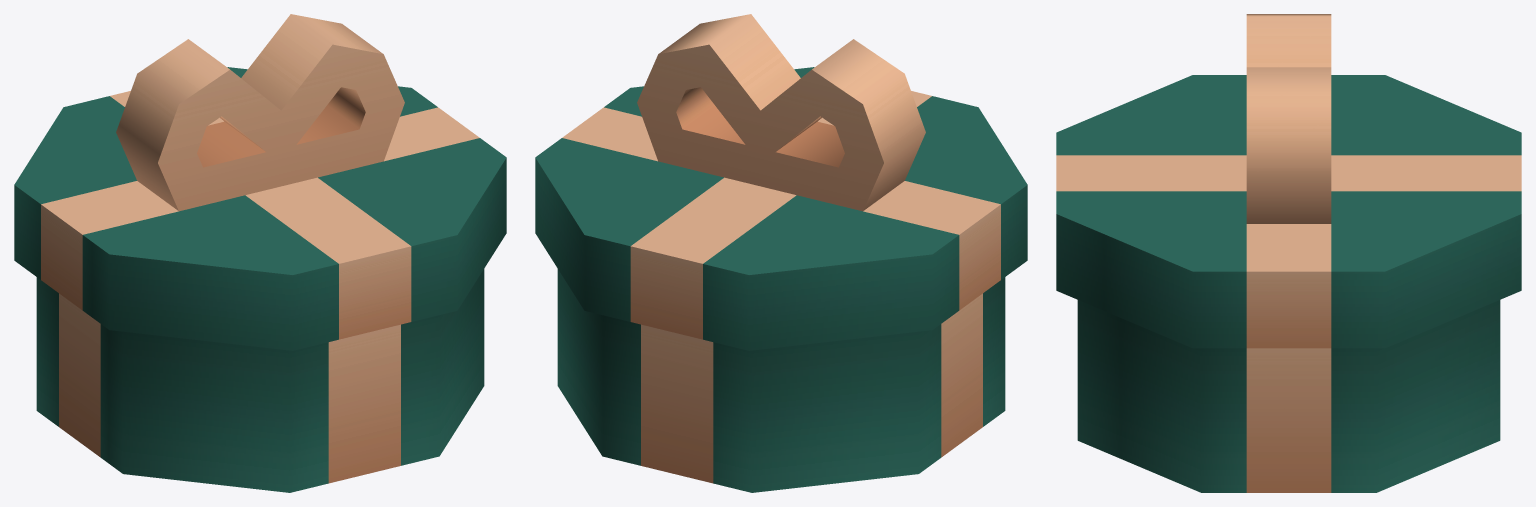
File: round_gift.glb
3 renders of one model, left to right at view 1: azimuth 30°, elevation 25°; view 2: azimuth 150°, elevation 25°; view 3: azimuth 270°, elevation 25°, orthographic.
Visible parts, largest first — view 1: present-b-round; view 2: present-b-round; view 3: present-b-round.
Part boxes in pixels (box(x1,y1,x2,y2)): present-b-round: box(14, 14, 506, 492); present-b-round: box(535, 14, 1027, 492); present-b-round: box(1056, 14, 1521, 492).
Bounding box in the file's own units: 0.5489 × 0.4707 × 0.5489.
Materials: 1 (1 with a texture image).
